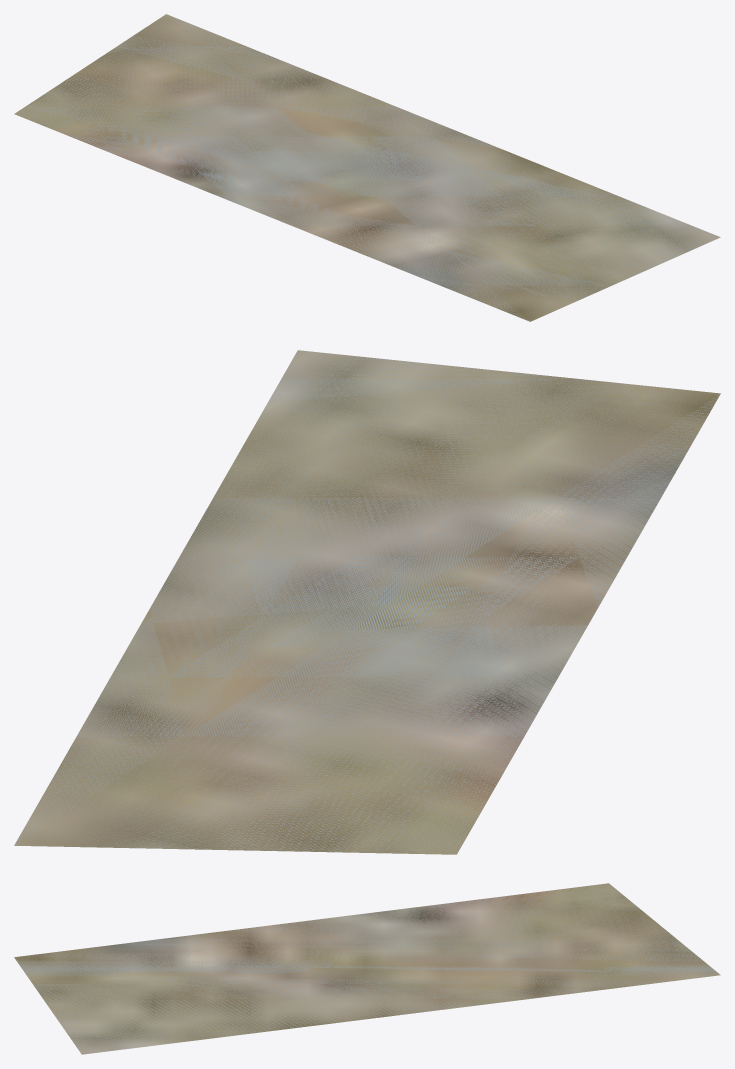
File: 西庸城堡684.dae
3 renders of one model, top to bottom at view 1: azimuth 30°, elevation 25°; view 2: azimuth 150°, elevation 25°; view 3: azimuth 270°, elevation 25°, orthographic. The views are drawn at different scales.
Parts seen in each view (by area): view 1: SketchUp; view 2: SketchUp; view 3: SketchUp.
Boxes of the visible parts, bbox=[...] form: SketchUp: bbox=[14, 14, 720, 321]; SketchUp: bbox=[14, 350, 720, 854]; SketchUp: bbox=[14, 883, 720, 1054].
Size of the model in its own units: 33.22 by 57.89 by 0.
